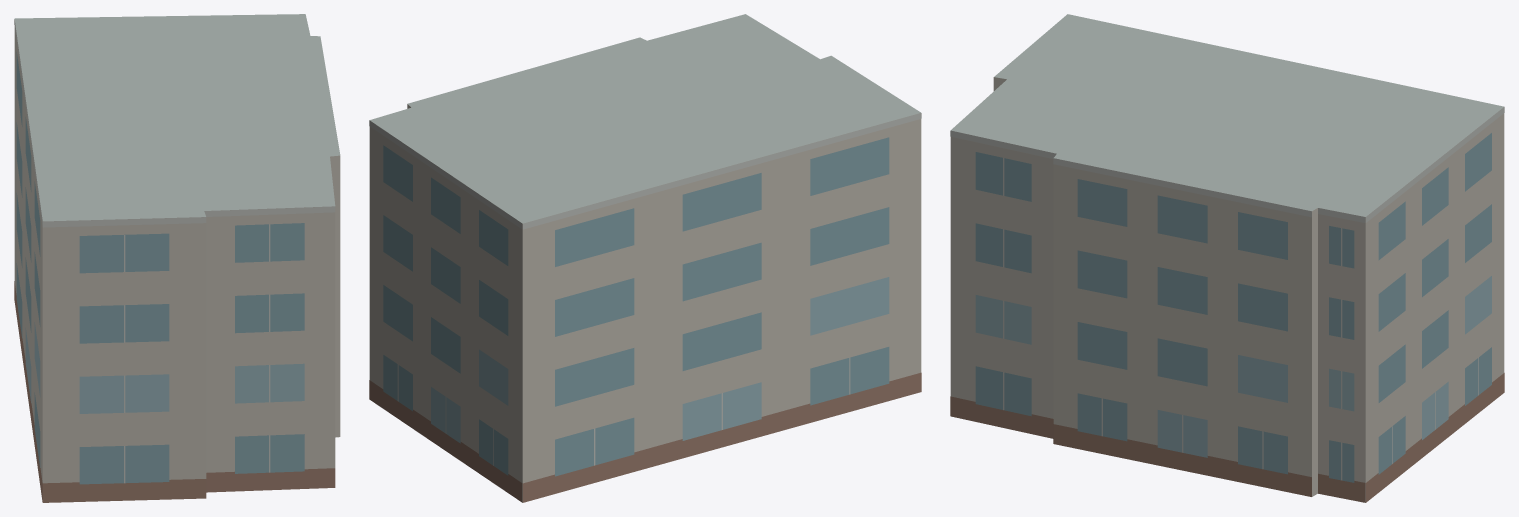
File: survey-upis-32991045.glb
3 views of the same model, side by side, from view 1: azimuth 30°, elevation 25°; view 2: azimuth 150°, elevation 25°; view 3: azimuth 270°, elevation 25° (orthographic). The views are drawn at different scales.
Visible parts, largest first — view 1: survey-upis-32991045.tmp; view 2: survey-upis-32991045.tmp; view 3: survey-upis-32991045.tmp.
Boxes of the visible parts, bbox=[...] form: survey-upis-32991045.tmp: bbox=[14, 14, 340, 502]; survey-upis-32991045.tmp: bbox=[369, 14, 921, 502]; survey-upis-32991045.tmp: bbox=[950, 14, 1504, 502].
Bounding box in the file's own units: 17.22 × 11.3 × 19.86.
